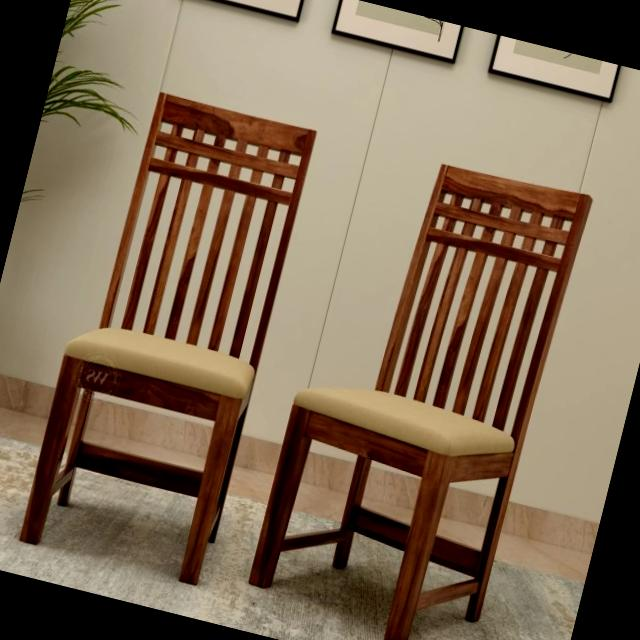Chair: (239, 152, 604, 640), (3, 76, 328, 602)
